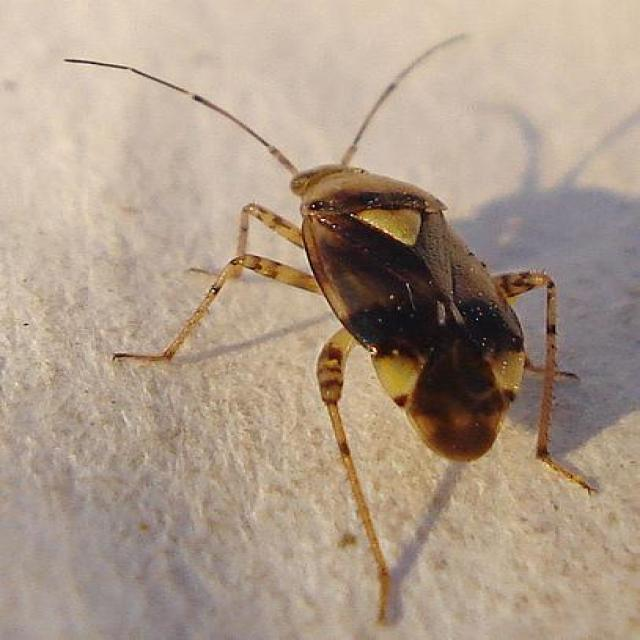Miridae-Adult-: (47, 26, 614, 578)
